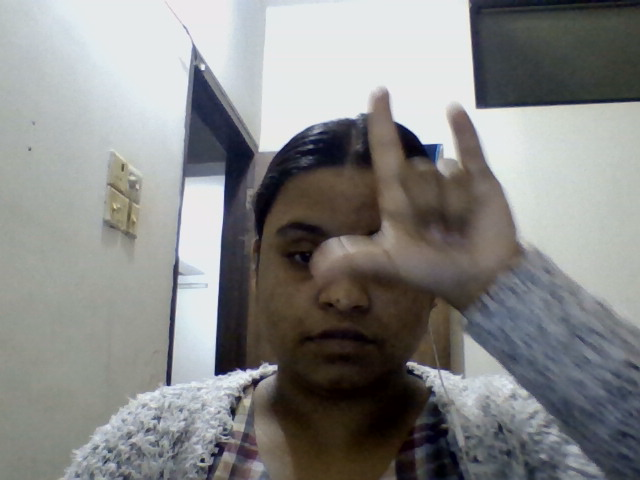I Love You: (292, 57, 591, 309)
